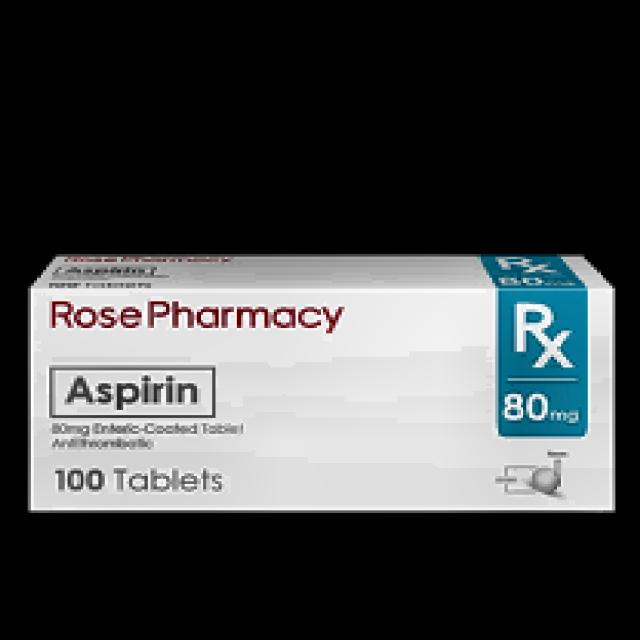Aspirin: (45, 356, 223, 425)
